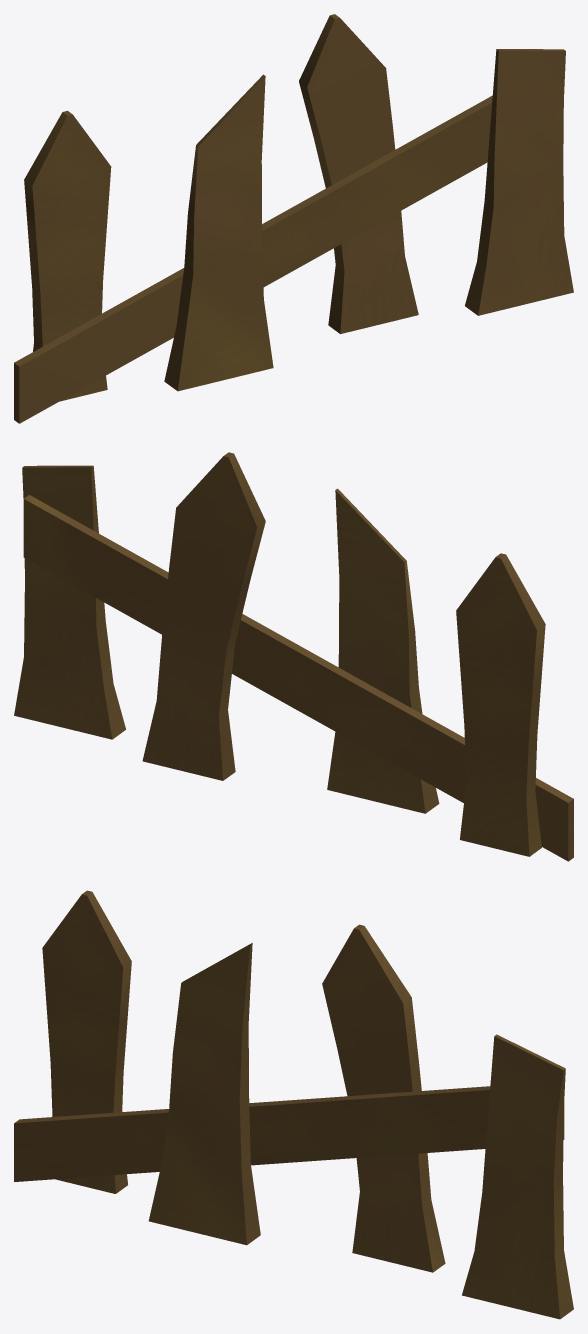
The model's file is WoodenFence.fbx.
3 renders of one model, top to bottom at view 1: azimuth 30°, elevation 25°; view 2: azimuth 150°, elevation 25°; view 3: azimuth 330°, elevation 25°, orthographic. The views are drawn at different scales.
Parts seen in each view (by area): view 1: WoodenFenceNew; view 2: WoodenFenceNew; view 3: WoodenFenceNew.
Part boxes in pixels (x1,y1,x2,y2): WoodenFenceNew: (14, 14, 573, 423); WoodenFenceNew: (14, 452, 573, 861); WoodenFenceNew: (14, 890, 573, 1319).
Size of the model in its own units: 377 by 212 by 37.44.
Materials: 1 (1 with a texture image).
